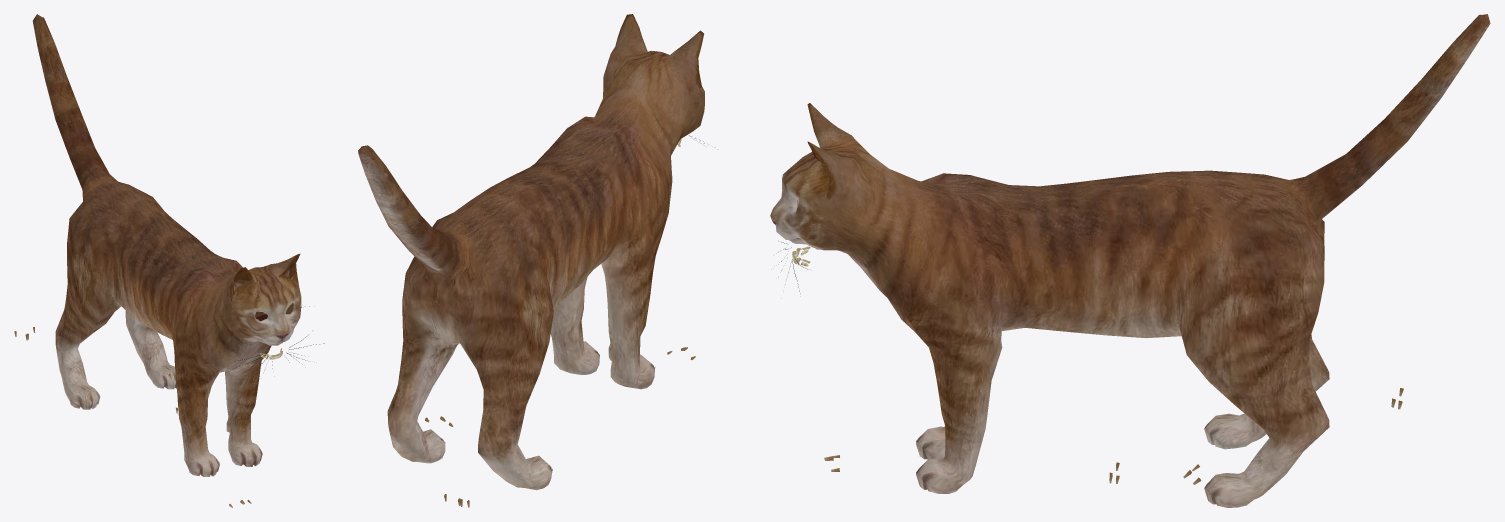
The model's file is cat-walk.glb.
The picture shows the model from 3 angles, left to right: view 1: azimuth 30°, elevation 25°; view 2: azimuth 150°, elevation 25°; view 3: azimuth 270°, elevation 25°; orthographic projection. The views are drawn at different scales.
Parts seen in each view (by area): view 1: Mesh_003_0; view 2: Mesh_003_0; view 3: Mesh_003_0.
Boxes of the visible parts, left/top/right/bottom form: Mesh_003_0: left=14, top=14, right=324, bottom=507; Mesh_003_0: left=358, top=14, right=704, bottom=507; Mesh_003_0: left=770, top=14, right=1490, bottom=507.
Size of the model in its own units: 0.1009 by 0.2794 by 0.3915.
Materials: 1 (1 with a texture image).
